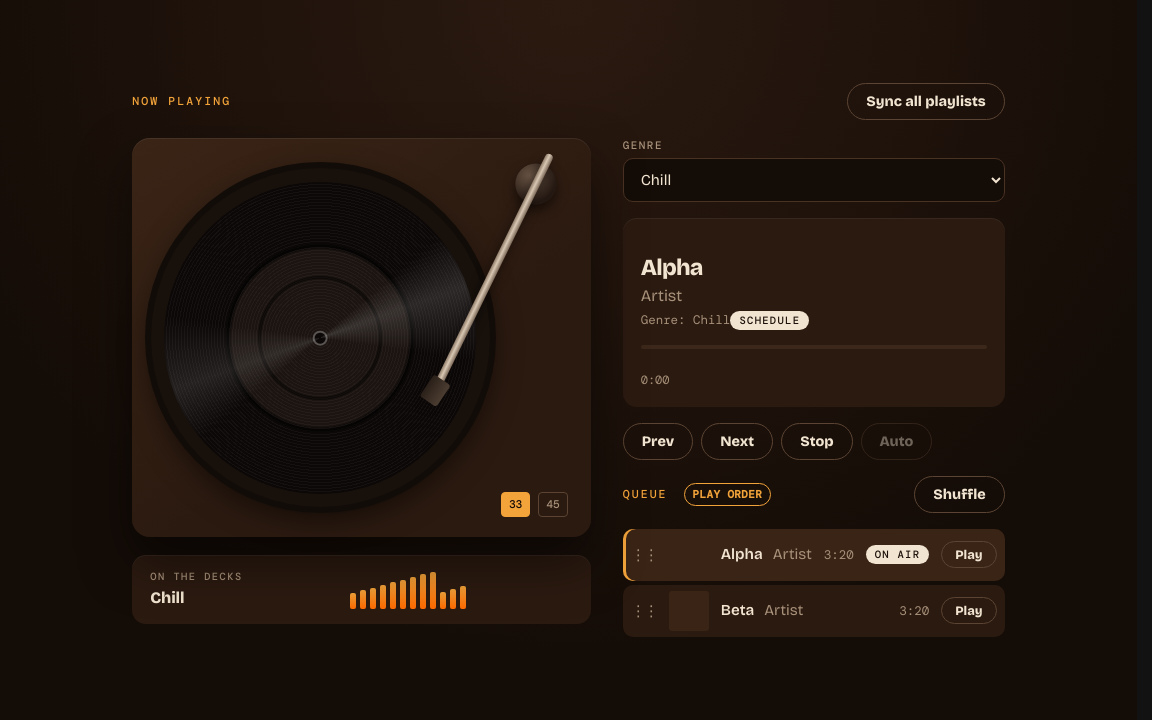
Test: NowPlayingPanel › does not play when the confirmation is cancelled
Click the button "Play" in the row of "Beta": (969, 611) [941,597,997,624]
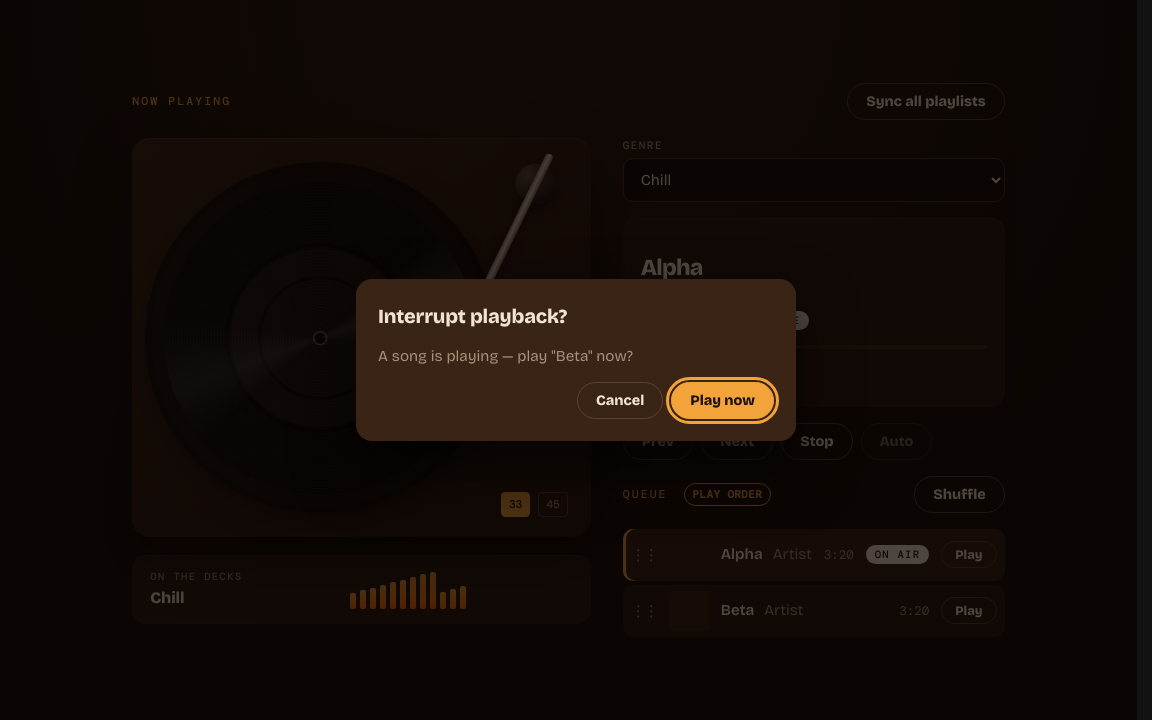
Click the button "Cancel": (620, 400) [577,382,663,419]
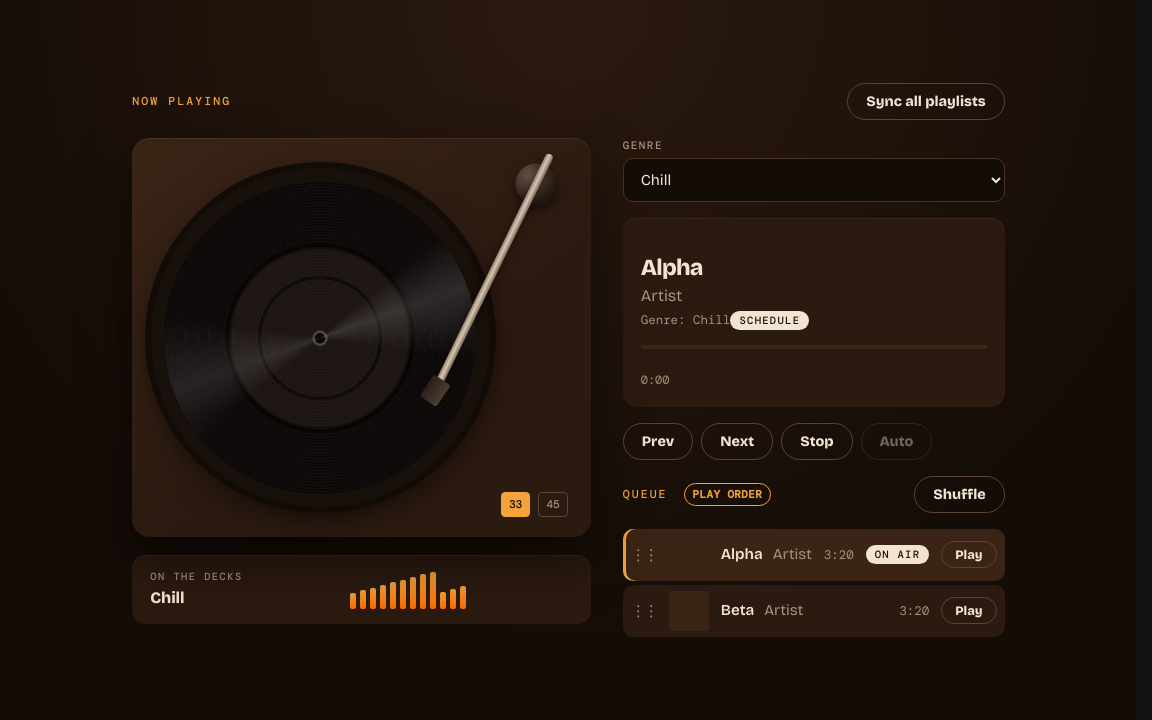
Result: the dialog is gone
